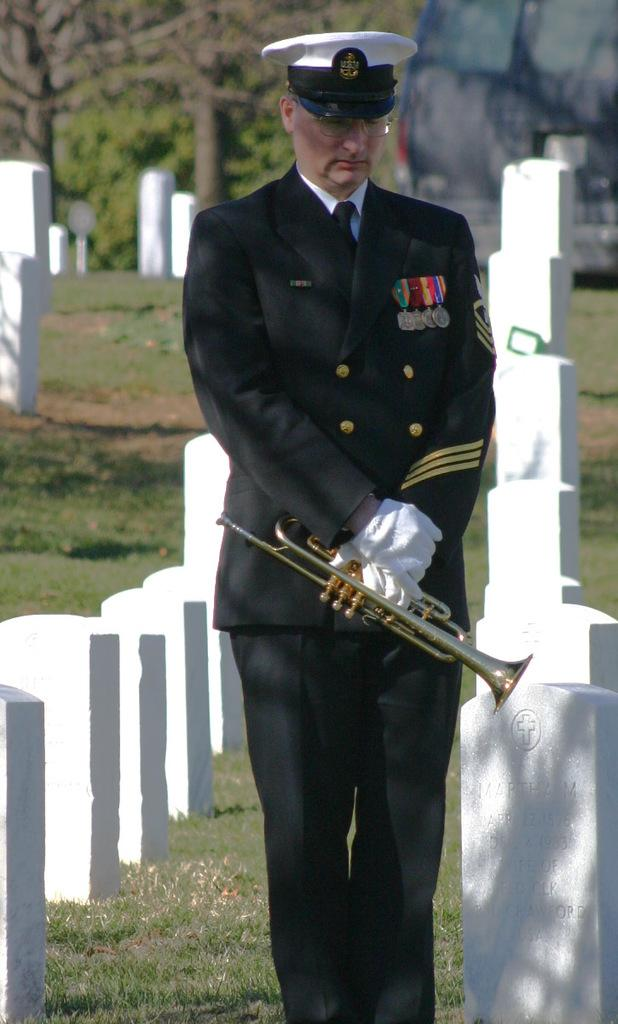Hat: (258, 26, 420, 121)
